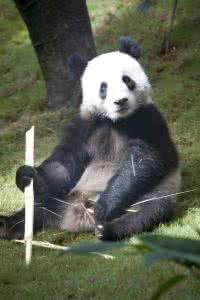panda: (3, 35, 182, 252)
